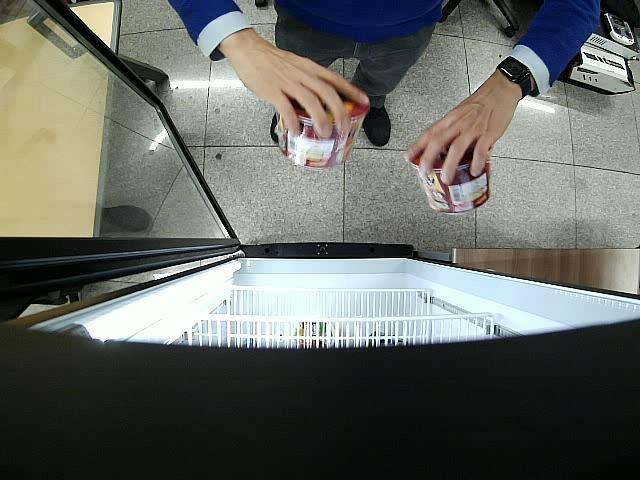05_nuguri_L: (275, 101, 367, 170), (404, 150, 489, 214)
